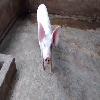heo: (35, 2, 59, 74)
